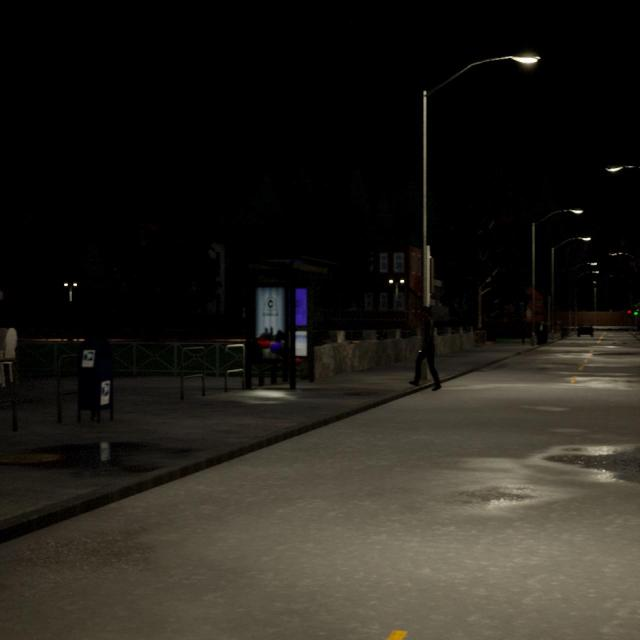Pedestrian: (409, 308, 441, 391)
Vehicle: (574, 322, 596, 338)
traffic_light: (425, 258, 435, 296), (634, 306, 639, 321), (627, 306, 631, 321)
